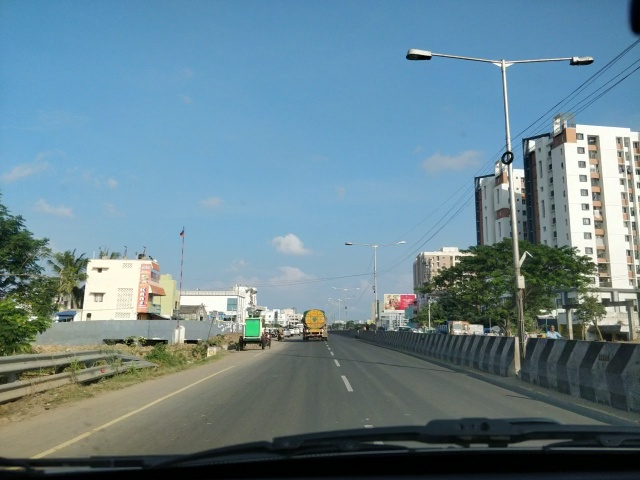motorbike: (545, 319, 563, 348), (274, 326, 286, 343)
truck: (237, 318, 270, 355), (299, 307, 329, 344), (438, 321, 471, 343)
